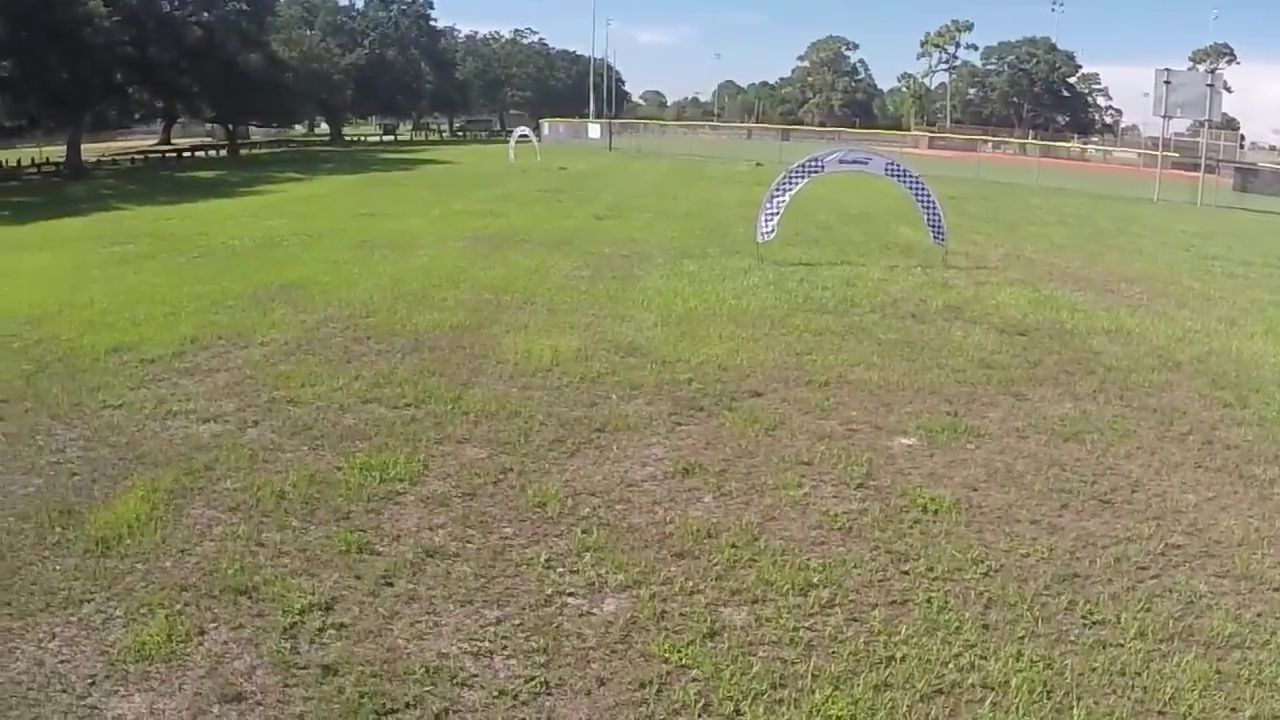gate: (751, 149, 948, 251), (507, 125, 543, 164)
